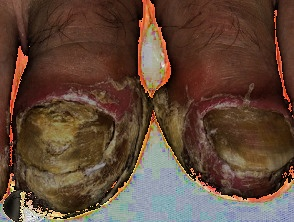Nail_psoriasis: (10, 71, 157, 221), (152, 76, 294, 202), (201, 105, 294, 174), (150, 88, 201, 173)
